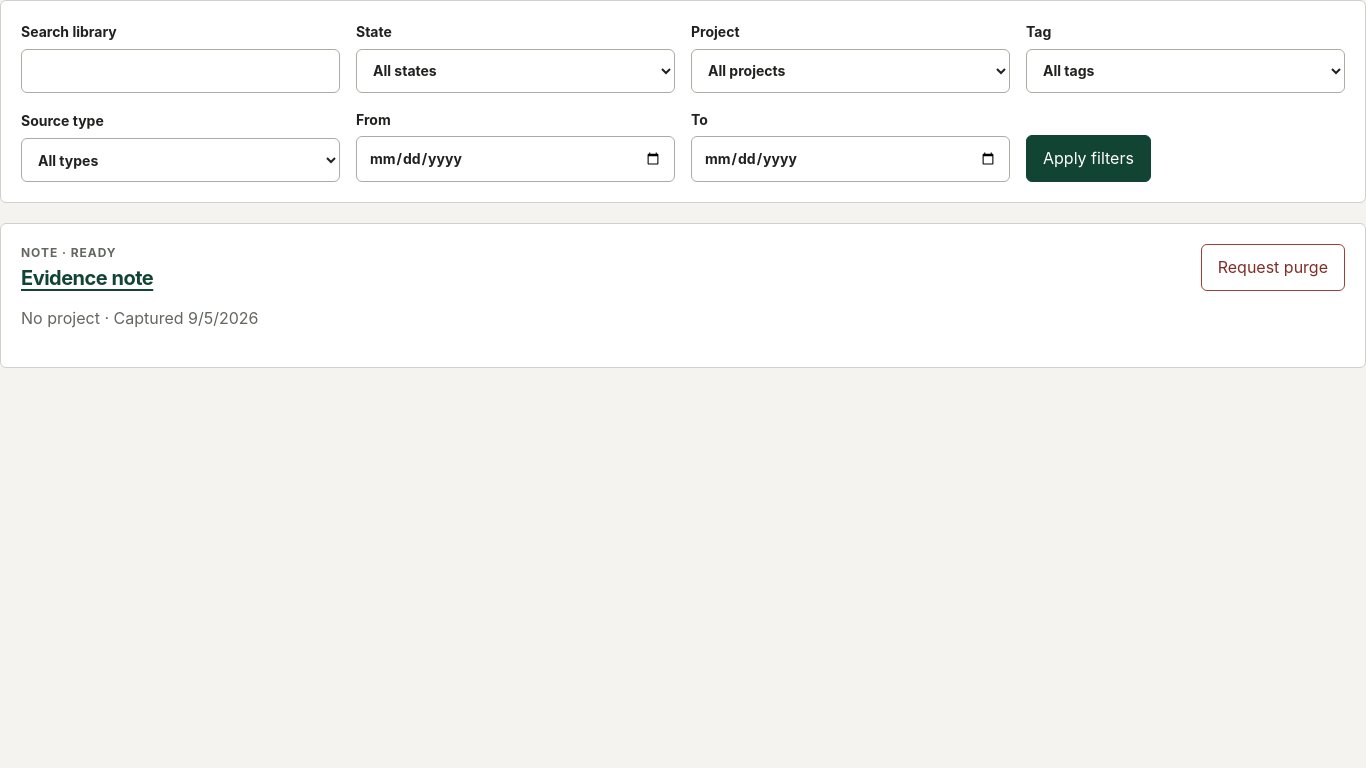
Test case: LibraryView › fails closed when polled purge identity does not match the source operation
This screenshot has width=1366, height=768.
Expected: the link "Evidence note" is shown, [21,266,153,290]
Click the button "Request purge" at (1273, 268), box [1201,244,1345,291]
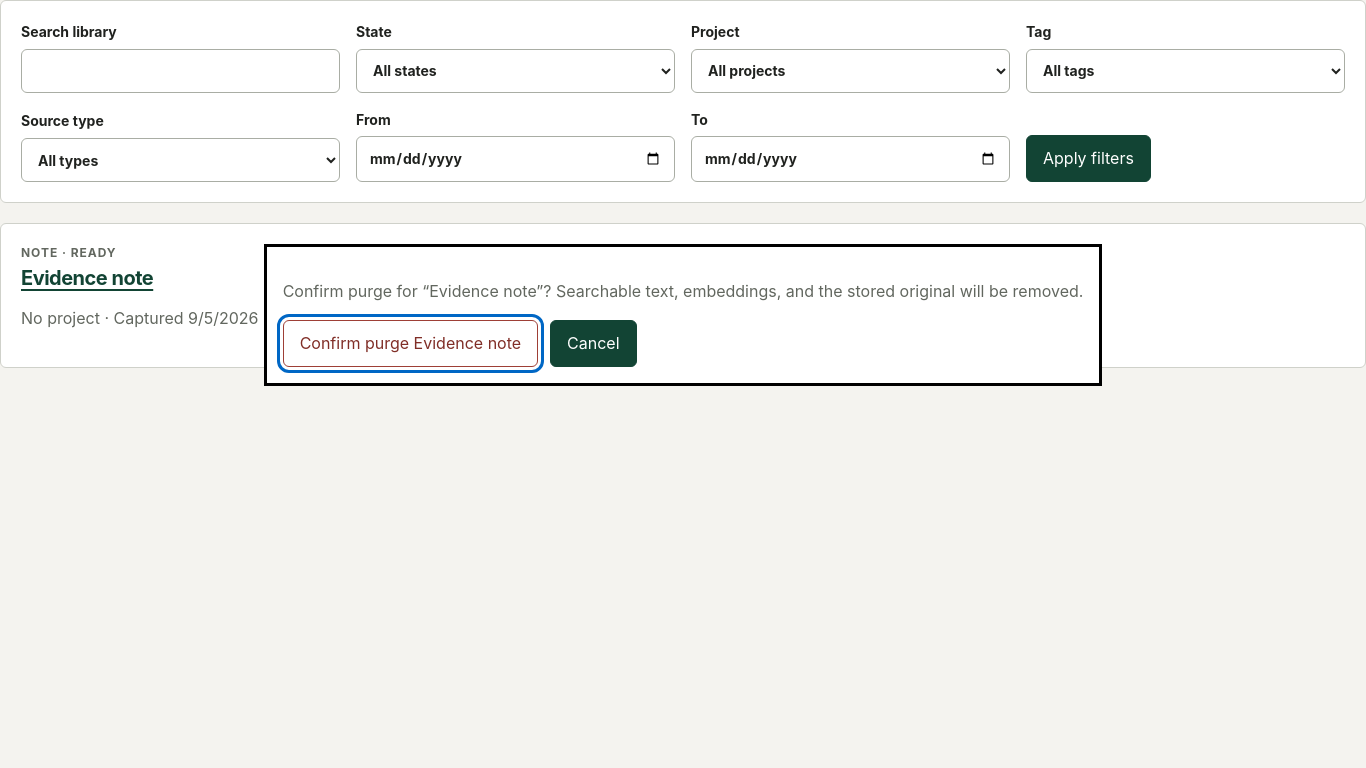
Click the button "Confirm purge Evidence note" at (410, 343), box [283,320,538,367]
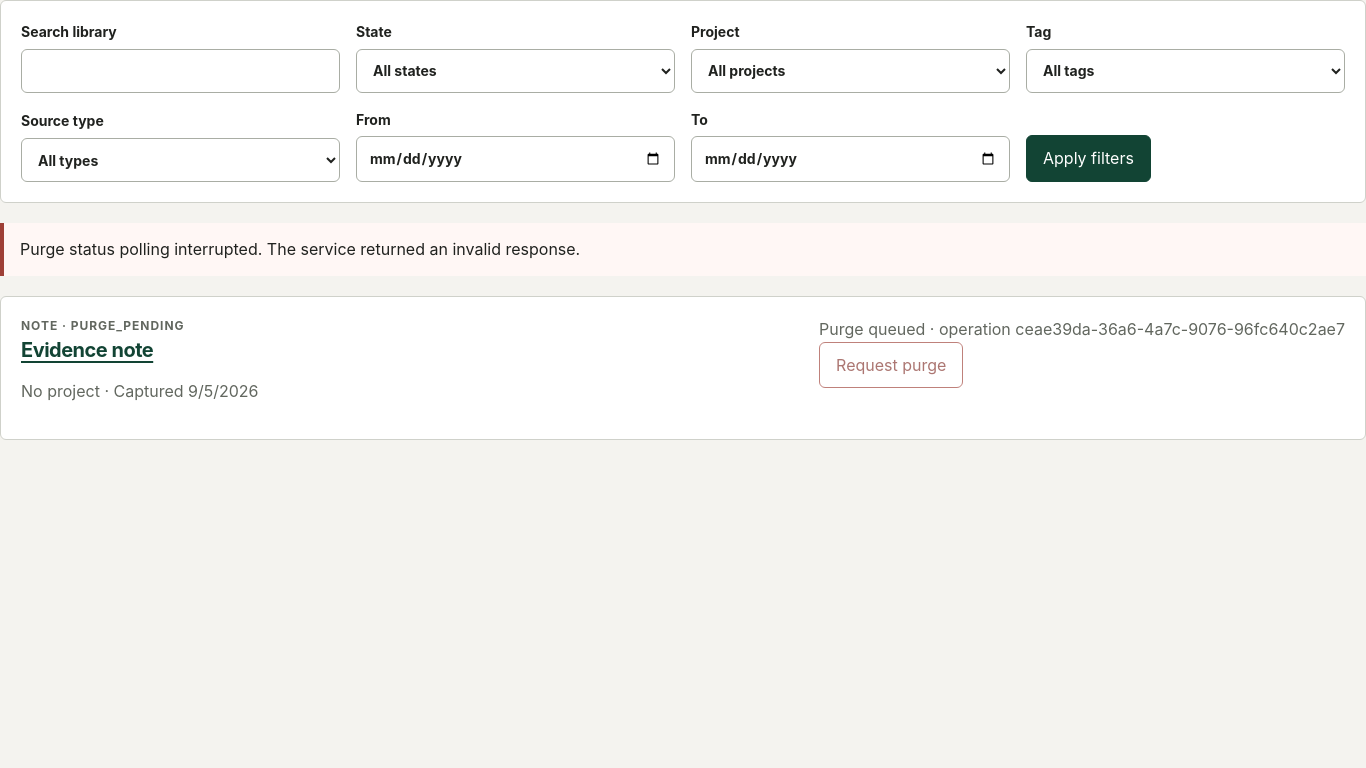
Expected: the link "Evidence note" is shown, [21,338,153,362]
Result: the text "Purge status polling interrupted. The service returned an invalid response." is shown at [0,223,1365,276]
